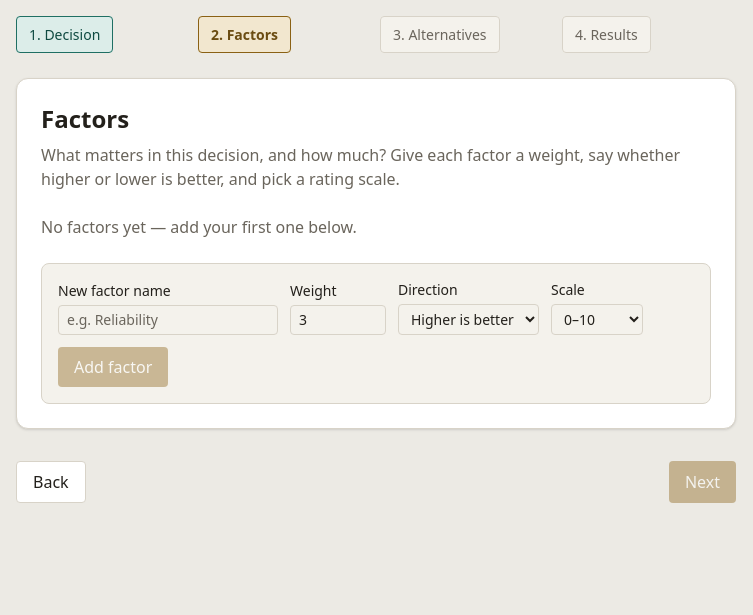
Test: FactorsStep — advancing › enables Next once at least one factor exists
Expected: the button "Next" is disabled, [669, 461, 736, 503]
Type "Range" into the field labelled "New factor name". click: (168, 320)
box: [58, 305, 278, 335]
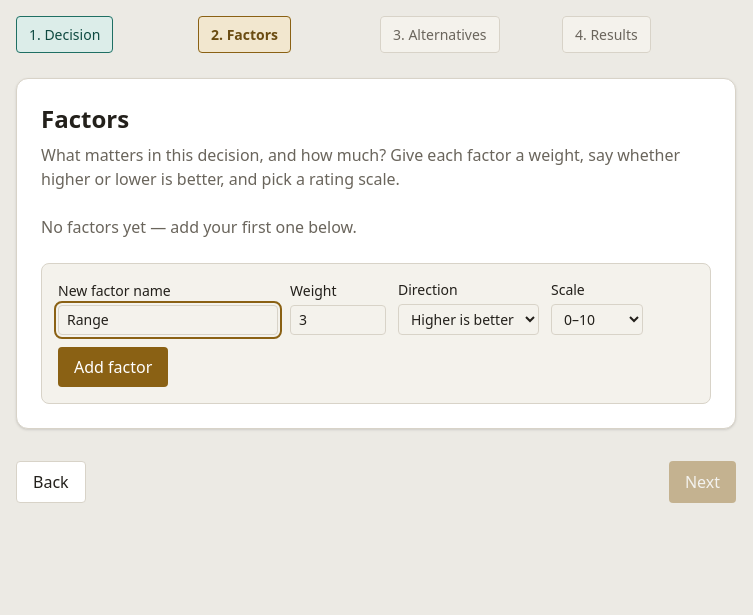
Click the button "Add factor". click: (113, 367)
box: [58, 347, 168, 387]
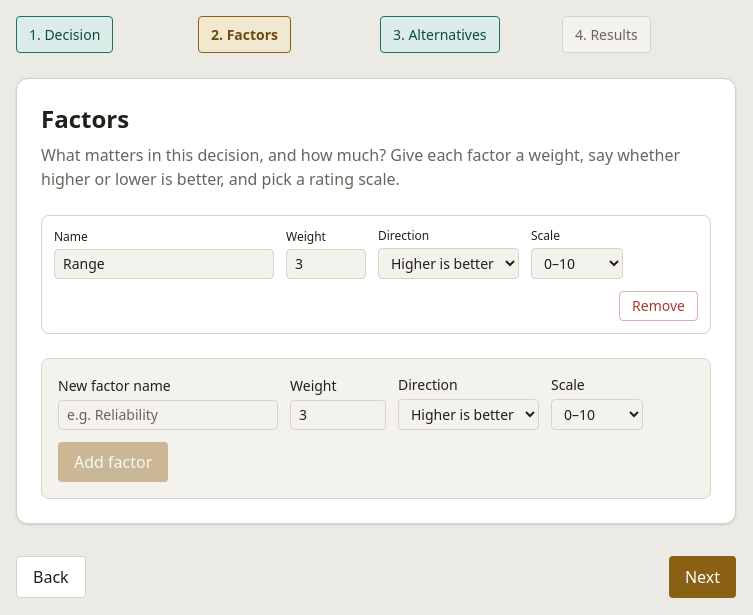
Expected: the button "Next" is enabled, [669, 556, 736, 598]
